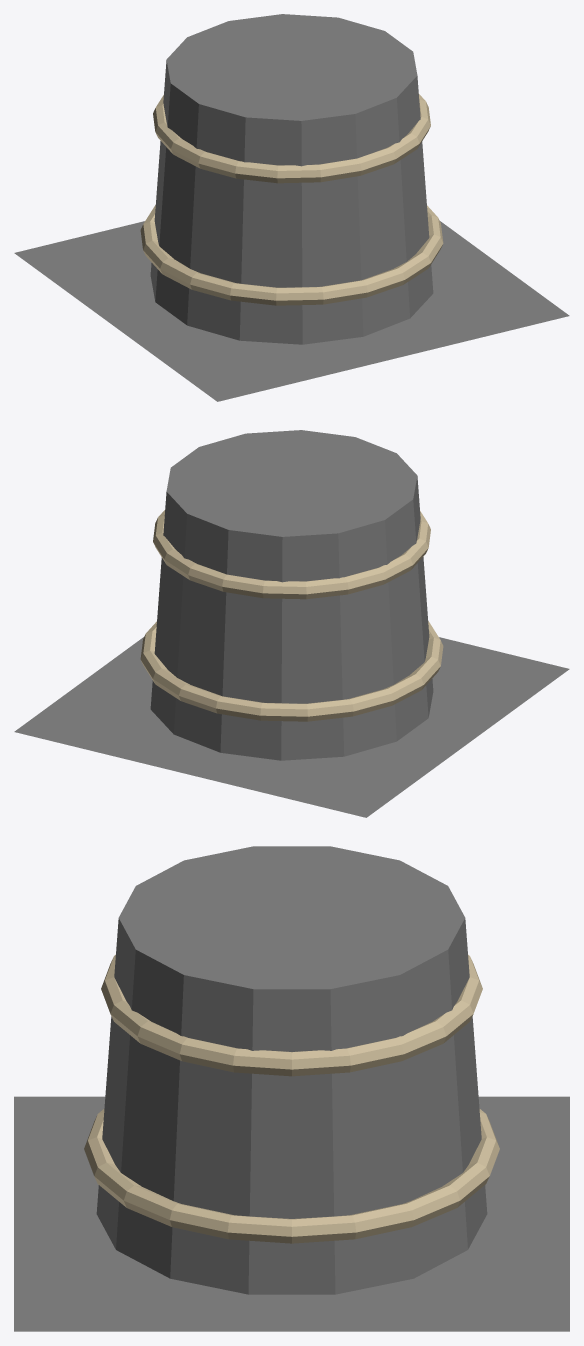
File: bucket.glb
3 renders of one model, top to bottom at view 1: azimuth 30°, elevation 25°; view 2: azimuth 150°, elevation 25°; view 3: azimuth 270°, elevation 25°, orthographic. The views are drawn at different scales.
Parts seen in each view (by area): view 1: body, ContactShadow, bandLo, bandHi; view 2: body, ContactShadow, bandLo, bandHi; view 3: body, ContactShadow, bandLo, bandHi.
Part boxes in pixels (left/top/right/bottom): body: left=150, top=14, right=433, bottom=344; ContactShadow: left=14, top=221, right=569, bottom=401; bandLo: left=140, top=205, right=443, bottom=305; bandHi: left=153, top=93, right=430, bottom=183; body: left=150, top=430, right=433, bottom=760; ContactShadow: left=14, top=637, right=569, bottom=817; bandLo: left=140, top=621, right=443, bottom=721; bandHi: left=153, top=509, right=430, bottom=599; body: left=96, top=846, right=487, bottom=1294; ContactShadow: left=14, top=1096, right=569, bottom=1331; bandLo: left=84, top=1109, right=499, bottom=1243; bandHi: left=101, top=954, right=482, bottom=1076.
Bounding box in the file's own units: 0.85 × 0.52 × 0.85.
4 materials, 2 textured.
